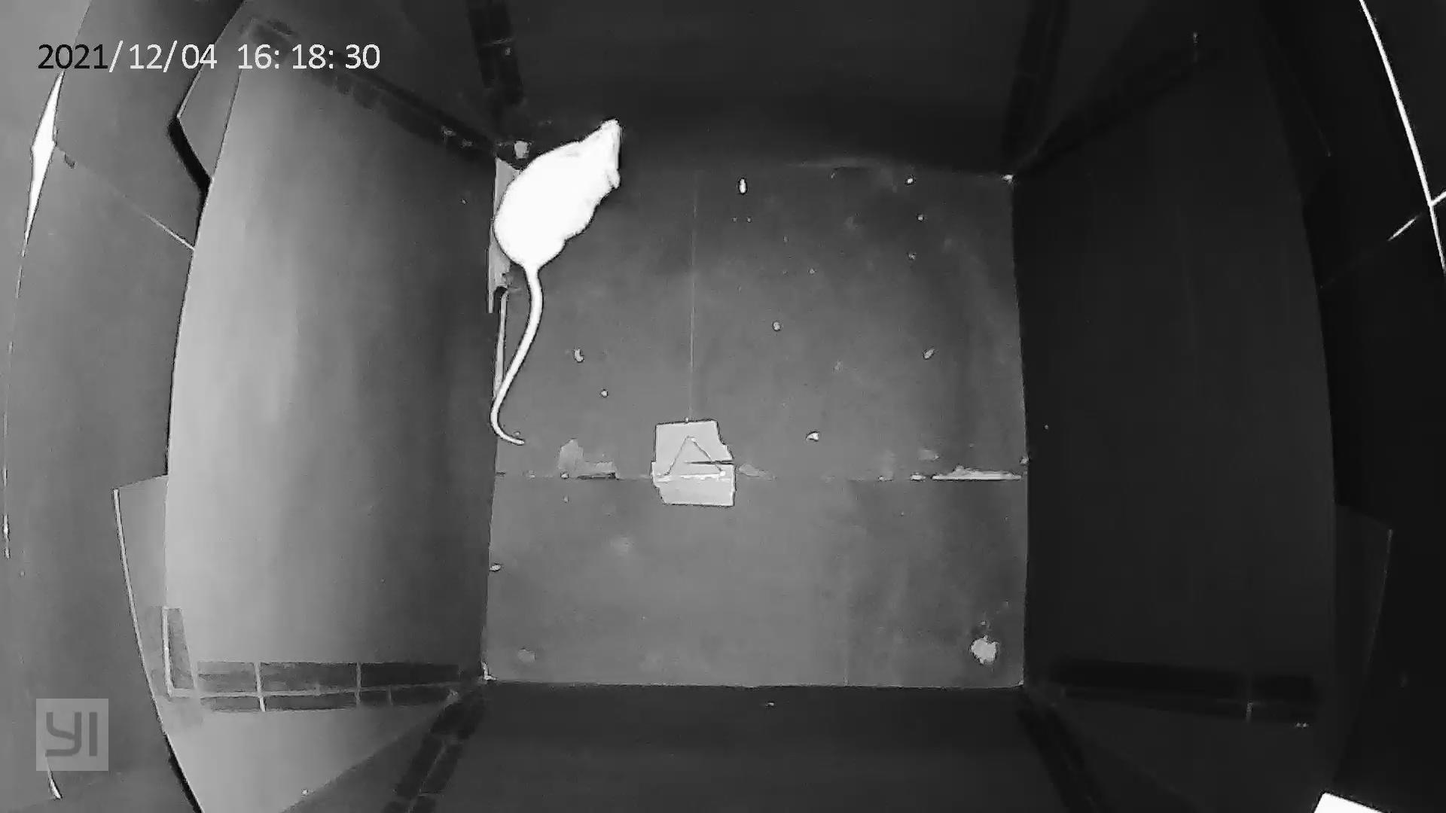rat: (456, 100, 642, 446)
